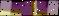scratch: (10, 0, 48, 16)
